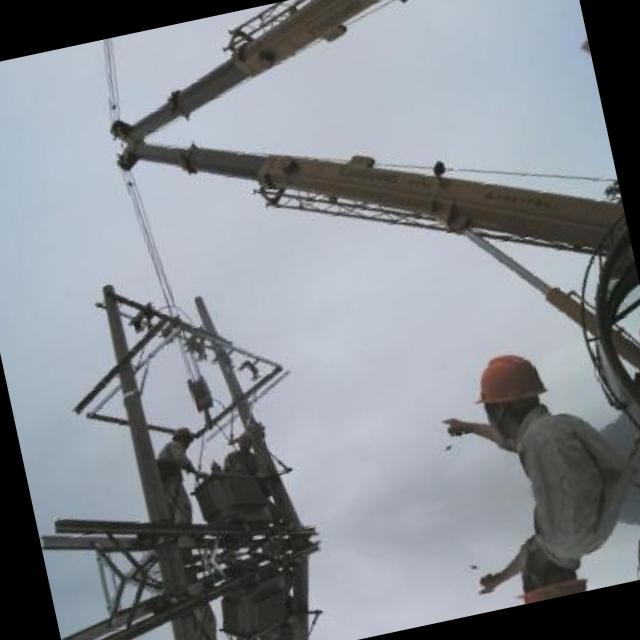helmet: (454, 332, 563, 454), (495, 526, 597, 606), (165, 418, 198, 451)
